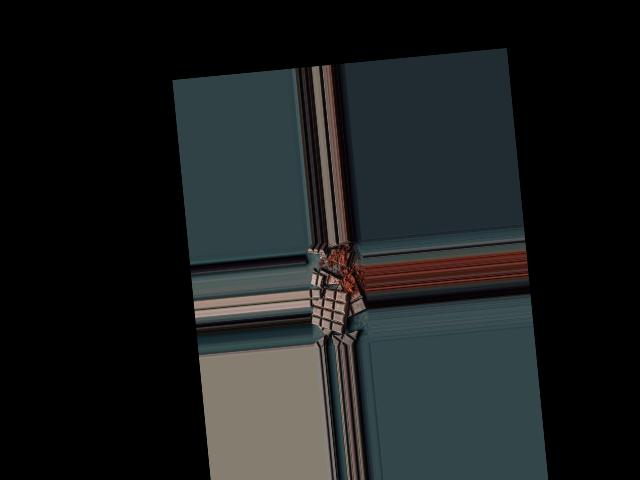chocolate: (308, 287, 352, 337)
